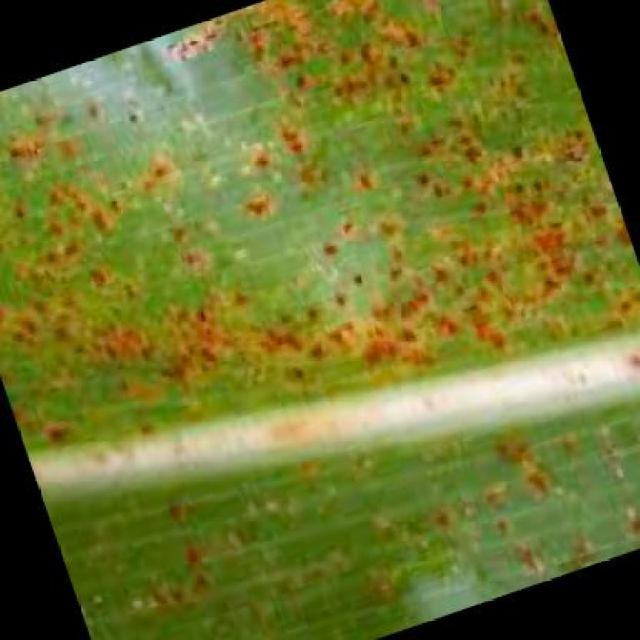Corn_Rust: (63, 74, 586, 554)
